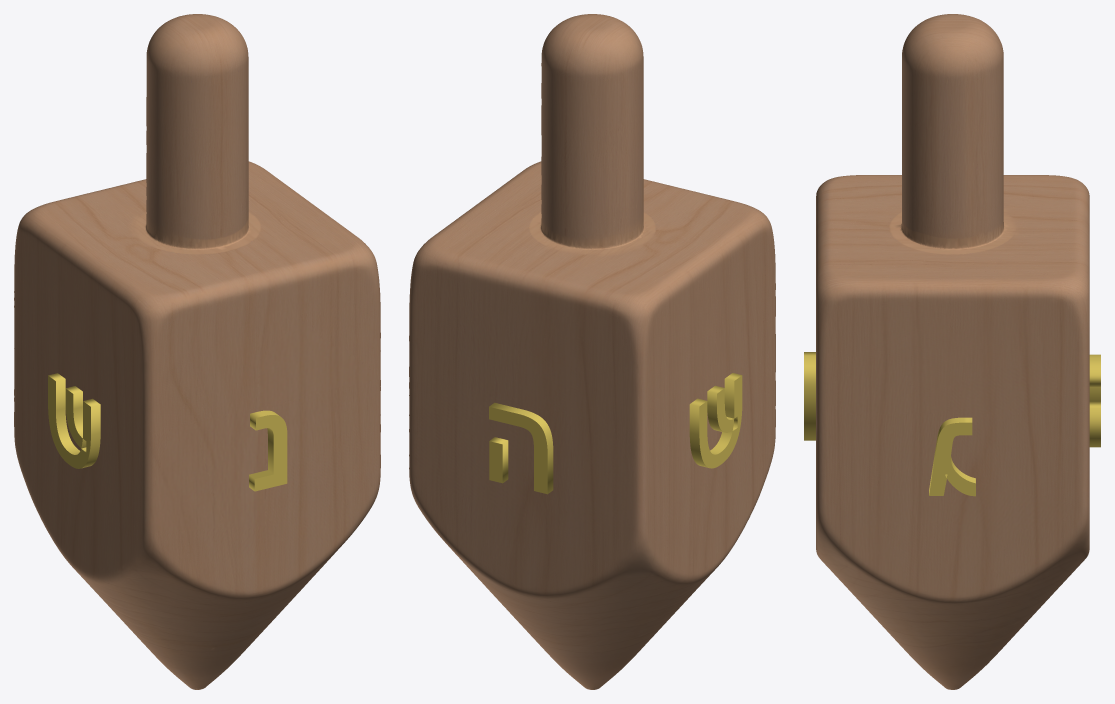
File: dreidel.glb
3 views of the same model, side by side, from view 1: azimuth 30°, elevation 25°; view 2: azimuth 150°, elevation 25°; view 3: azimuth 270°, elevation 25° (orthographic).
Parts seen in each view (by area): view 1: Mesh_0, Letter_Shin, Letter_Nun; view 2: Mesh_0, Letter_Shin, Letter_Hey; view 3: Mesh_0, Letter_Gimel, Letter_Hey, Letter_Nun.
Boxes of the visible parts, x1,y1,x2,y2 form: Mesh_0: (14, 14, 380, 689); Letter_Shin: (48, 373, 100, 468); Letter_Nun: (249, 410, 287, 491); Mesh_0: (409, 14, 775, 689); Letter_Shin: (689, 373, 742, 468); Letter_Hey: (489, 402, 553, 494); Mesh_0: (816, 14, 1089, 689); Letter_Gimel: (929, 417, 975, 496); Letter_Hey: (1089, 354, 1100, 447); Letter_Nun: (804, 352, 815, 440).
Size of the model in its own units: 0.77 by 1.9 by 0.77.
2 materials, 1 textured.
